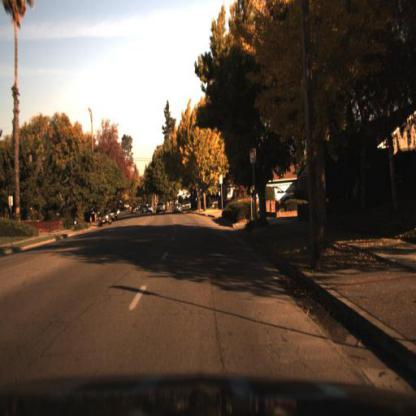car: (260, 180, 298, 211), (95, 206, 113, 232), (99, 207, 112, 228), (157, 202, 167, 218)
